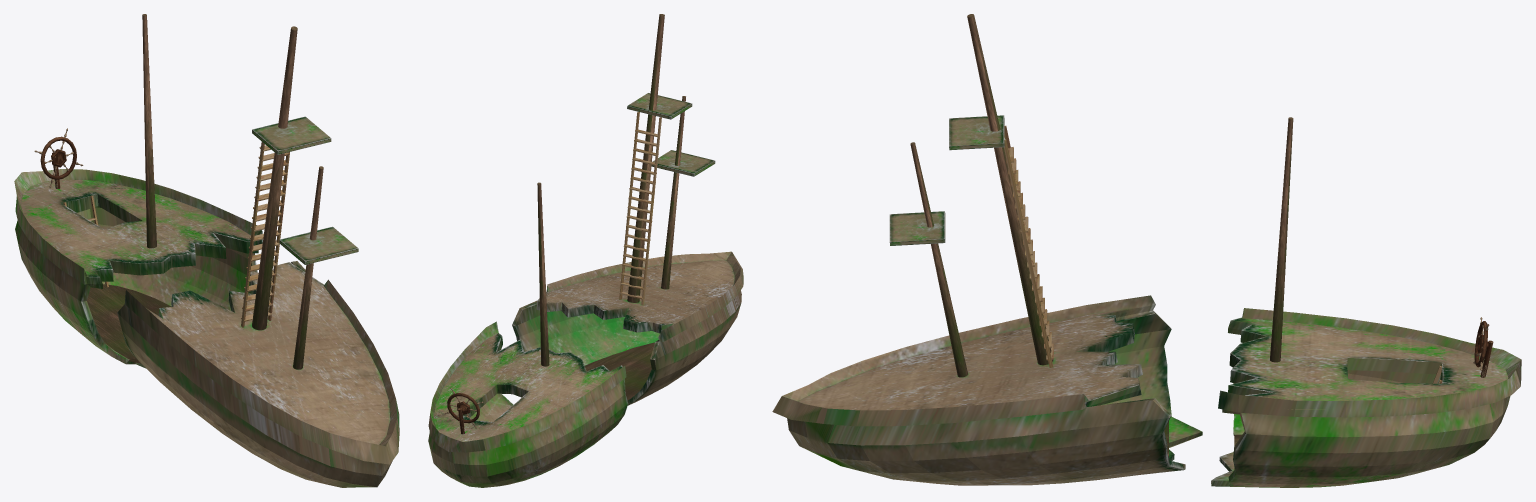
The model's file is sunken_boat.dae.
The picture shows the model from 3 angles, left to right: view 1: azimuth 30°, elevation 25°; view 2: azimuth 150°, elevation 25°; view 3: azimuth 270°, elevation 25°; orthographic projection. The views are drawn at different scales.
Parts seen in each view (by area): view 1: Ship exterior; view 2: Ship exterior; view 3: Ship exterior.
Boxes of the visible parts, x1,y1,x2,y2 form: Ship exterior: (14, 14, 399, 487); Ship exterior: (428, 14, 743, 487); Ship exterior: (772, 14, 1521, 487).
Bounding box in the file's own units: 6.58 × 22.74 × 15.43.
Materials: 1 (1 with a texture image).
